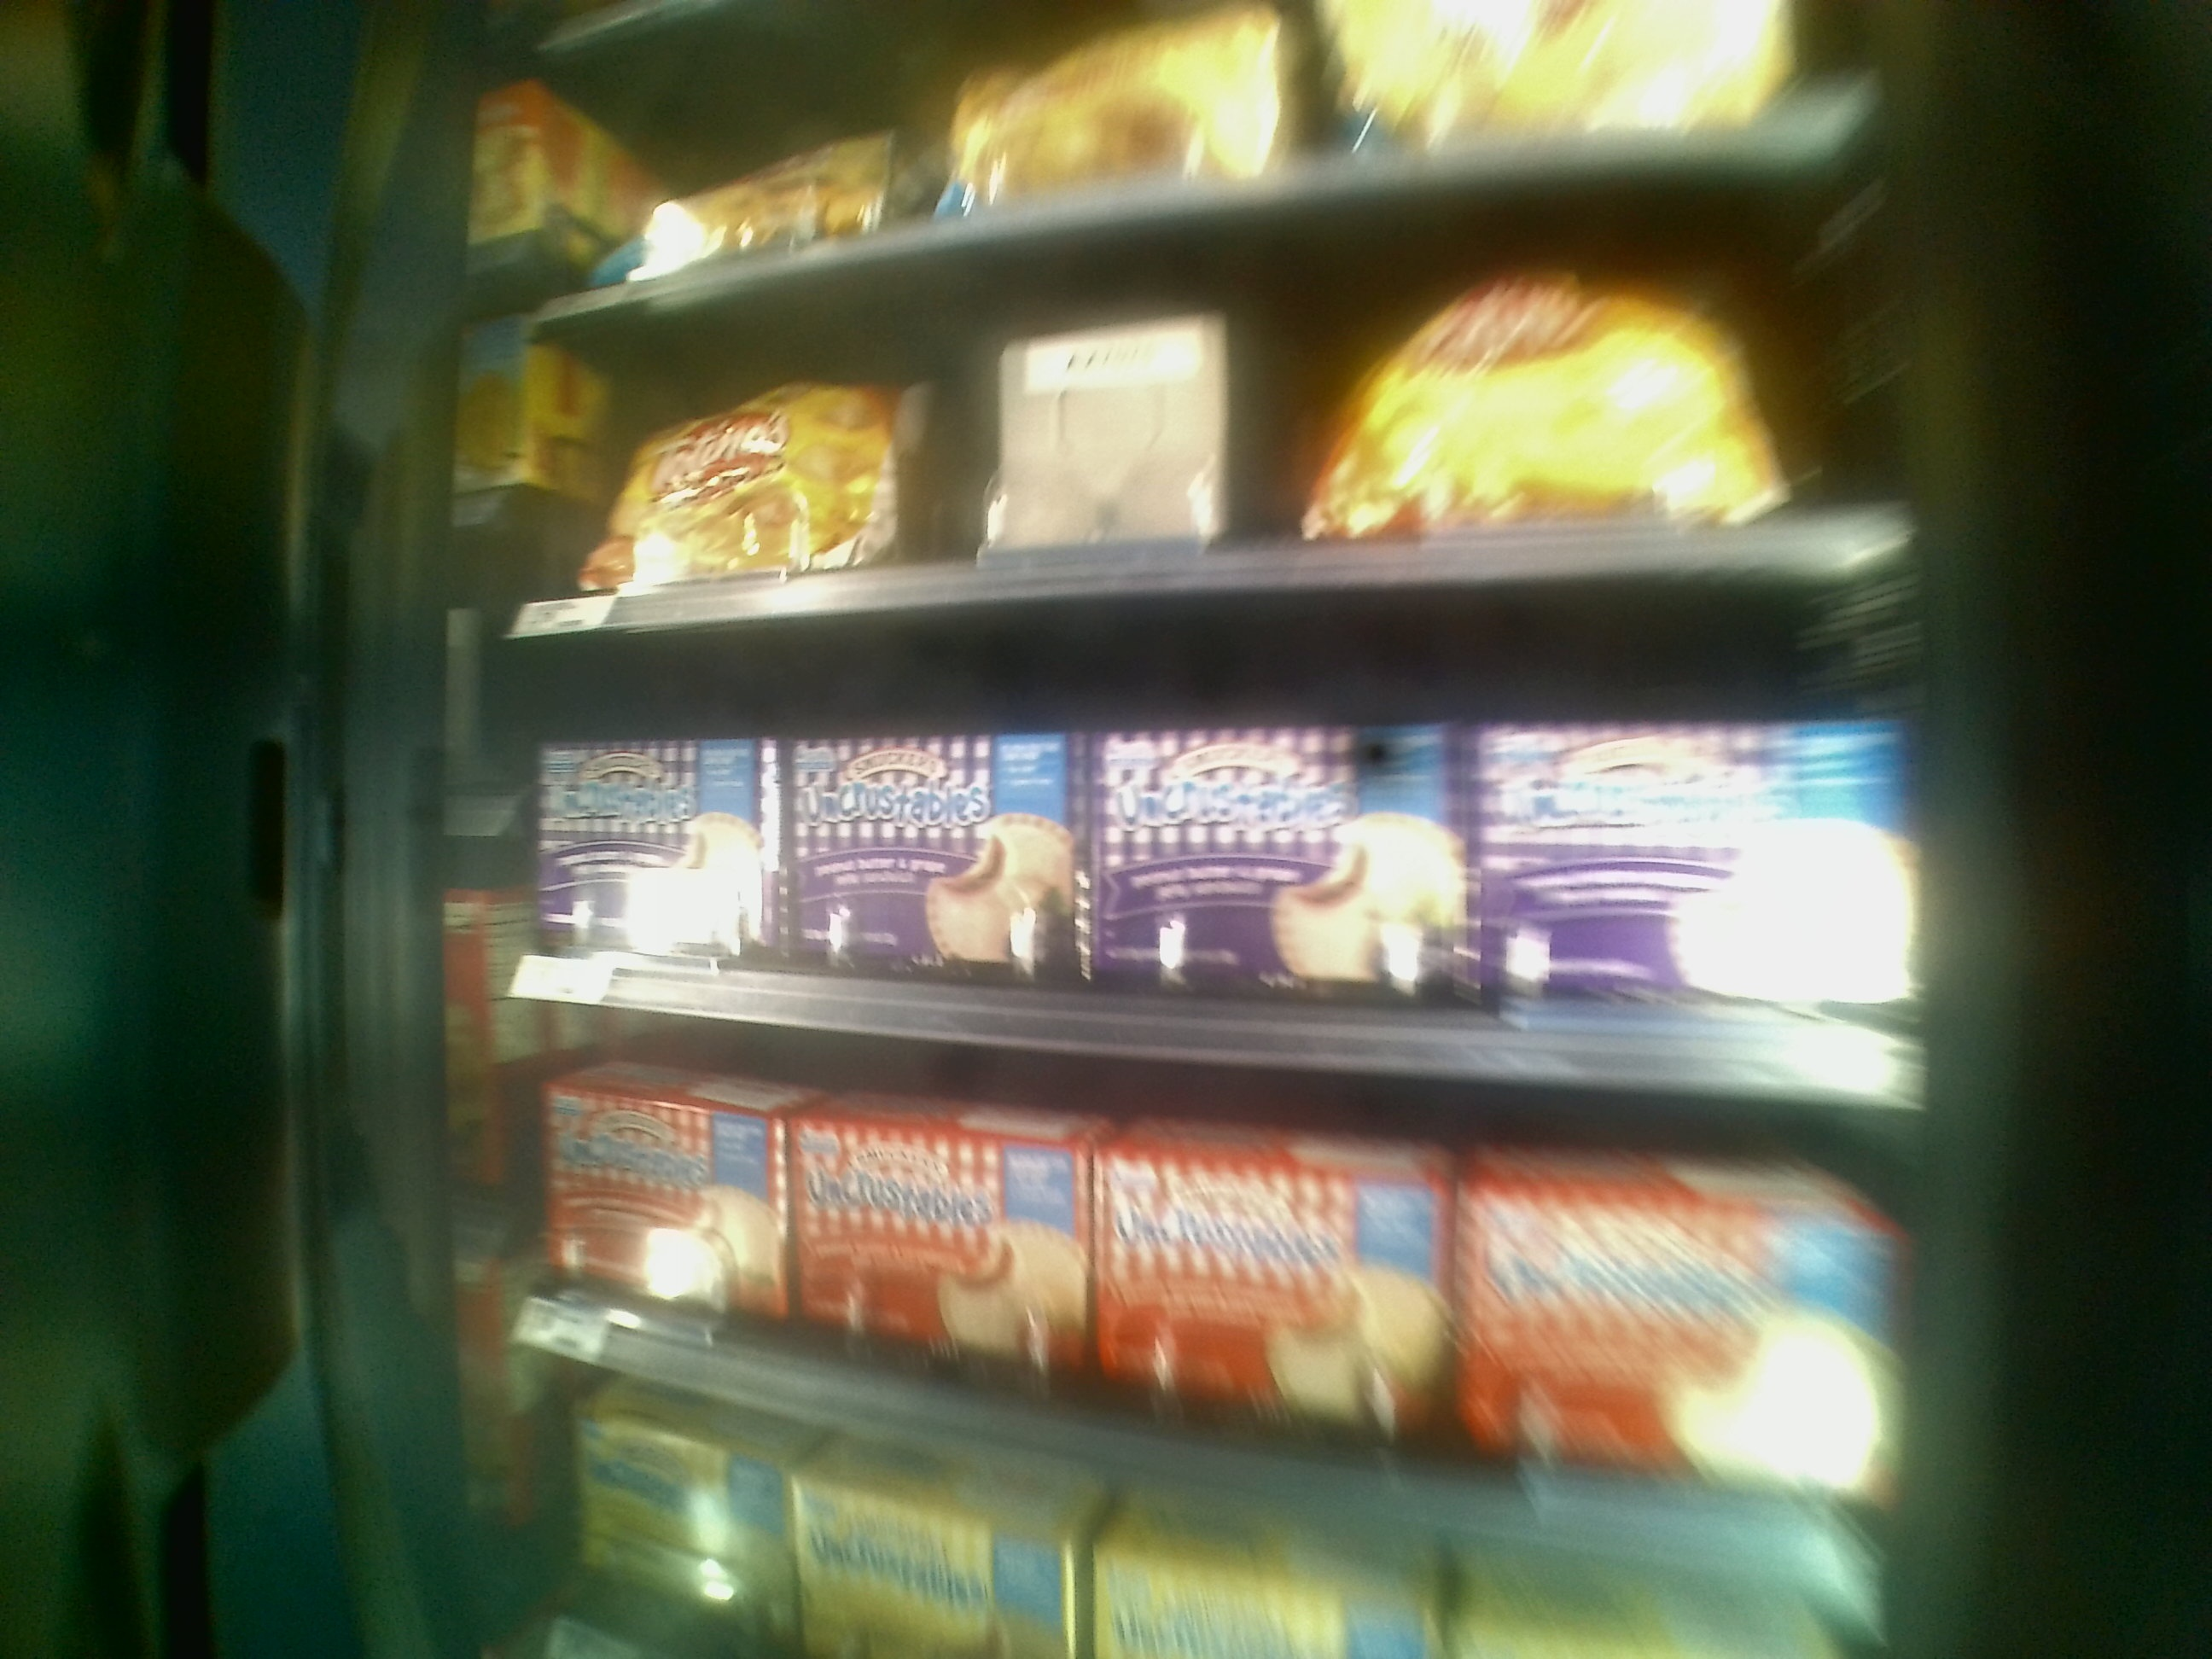shelf: (526, 993, 1860, 1560), (529, 622, 1886, 1086), (512, 319, 1865, 572)
